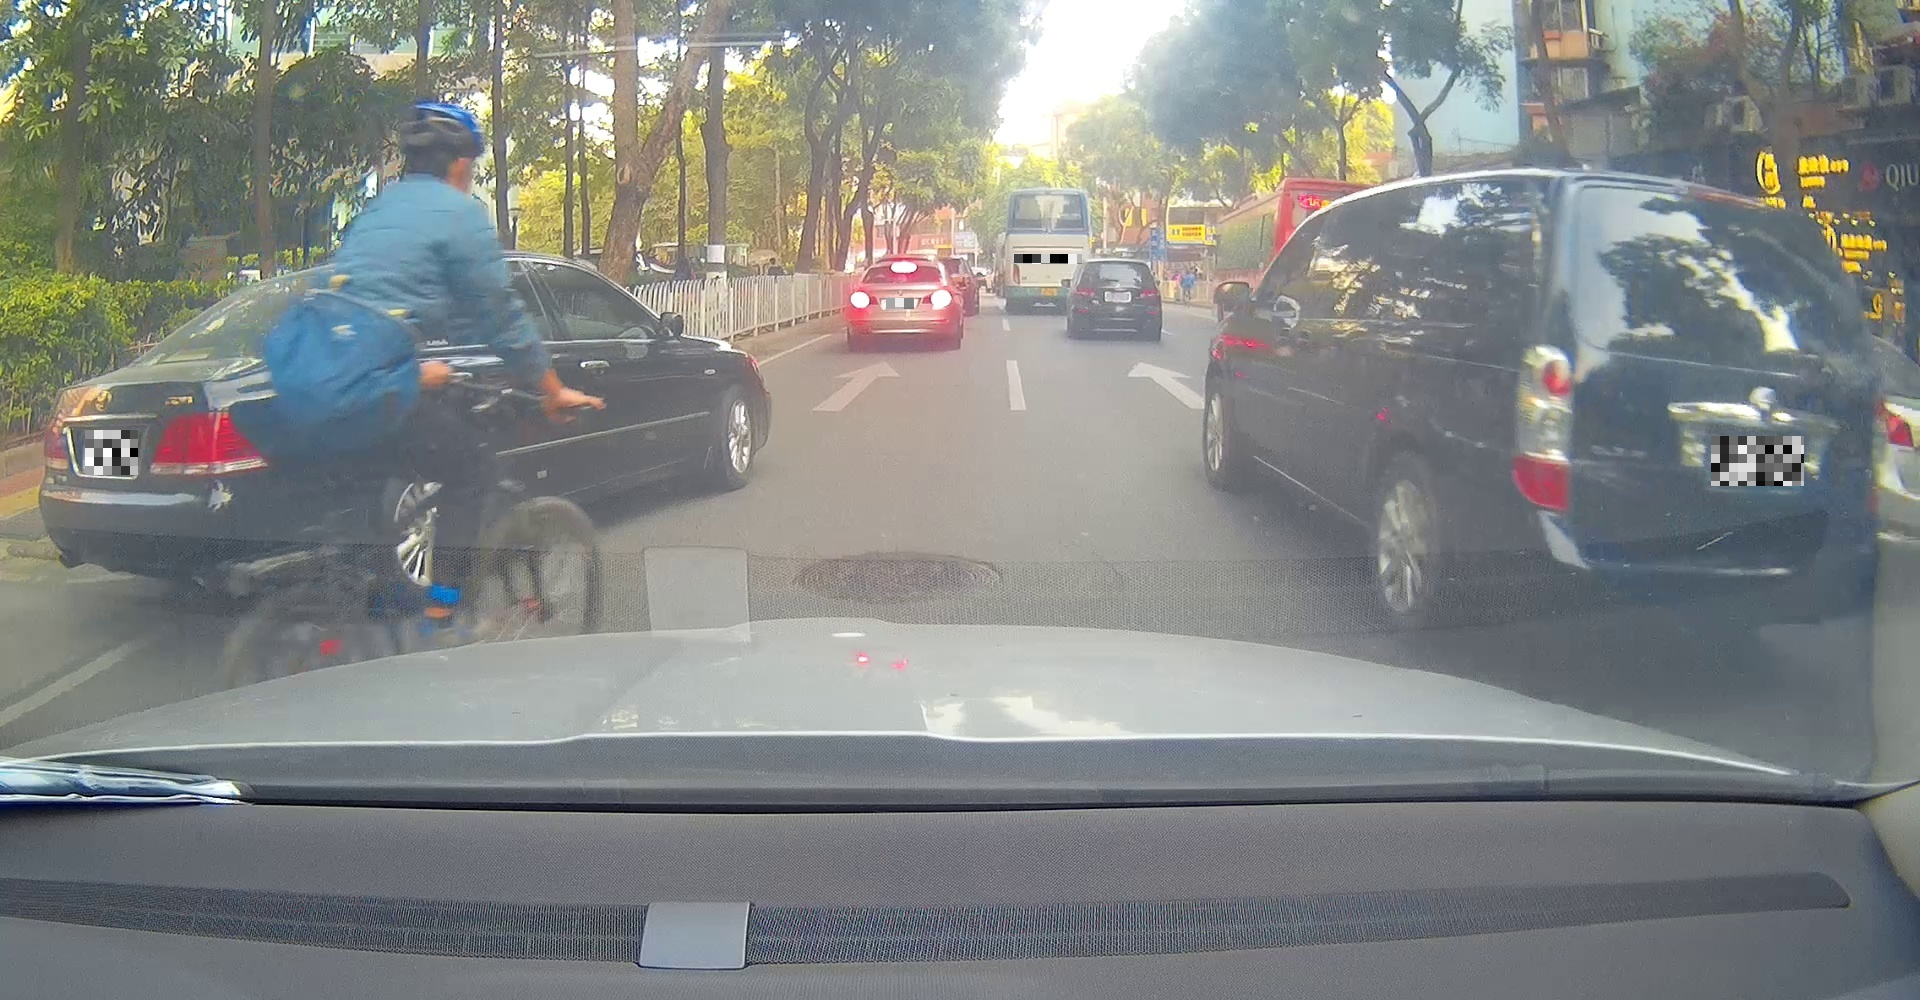L_light: (44, 387, 93, 470), (850, 291, 871, 308), (1076, 288, 1096, 299)
R_light: (150, 414, 270, 475), (930, 289, 952, 307), (1139, 289, 1161, 299)
T_light: (165, 346, 215, 360), (890, 263, 917, 273), (1109, 261, 1129, 269)
day-brake: (847, 261, 956, 349)
day-no: (37, 273, 317, 582), (1070, 261, 1163, 340)
plate_1: (85, 430, 138, 475)
plate_2: (886, 298, 914, 308)
plate_3: (1015, 254, 1082, 264)
plate_4: (1710, 437, 1804, 486)
